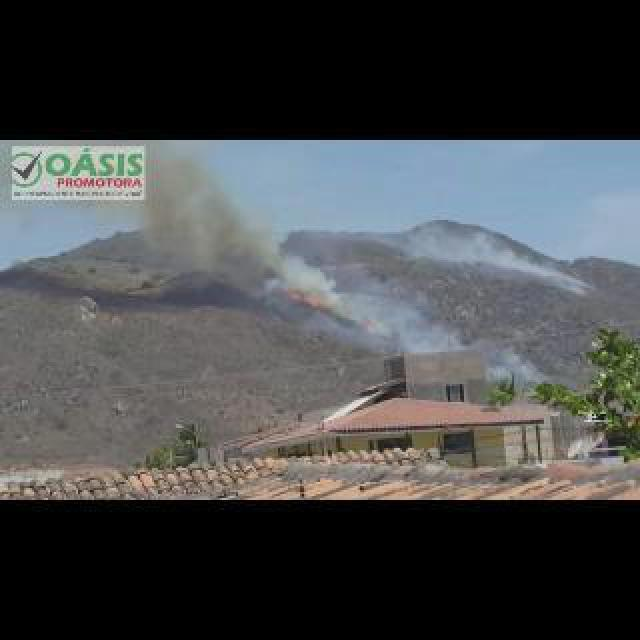smoke: (135, 147, 292, 300)
zfire: (304, 290, 322, 308)
